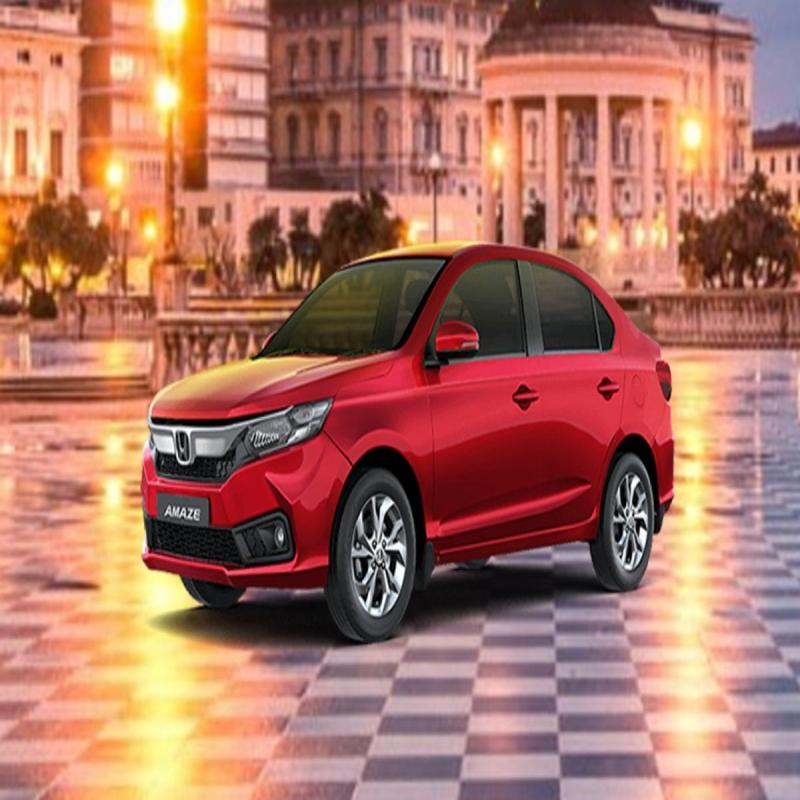car: (138, 232, 673, 629)
